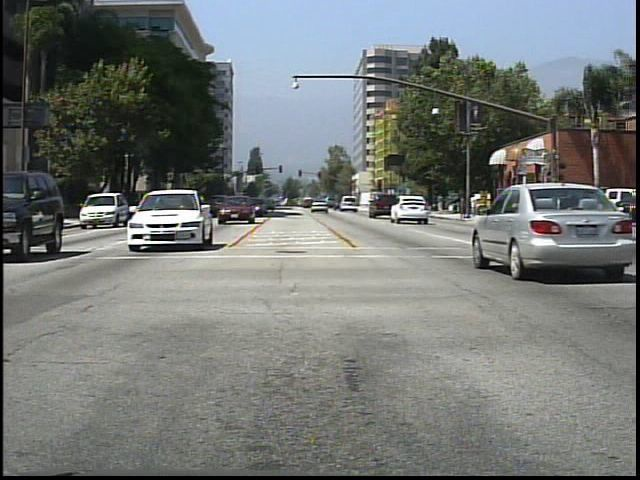person: (470, 191, 481, 220), (436, 191, 448, 215)
